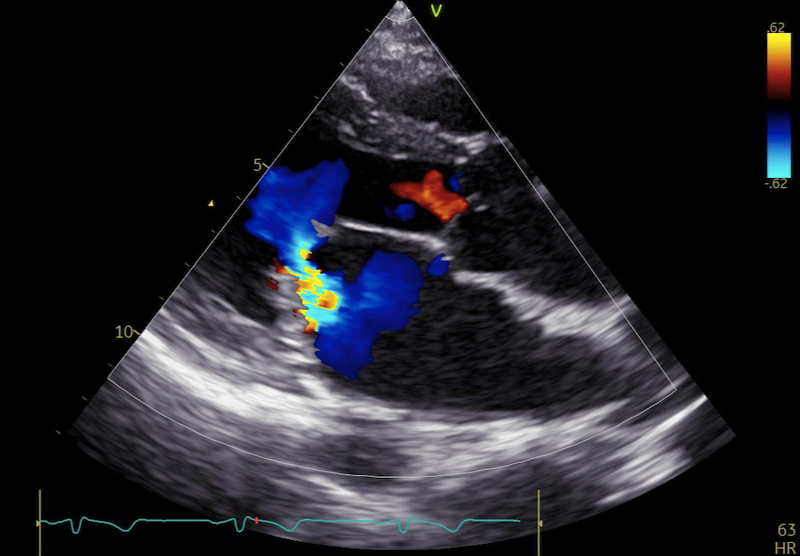MR: (284, 213, 347, 331)
